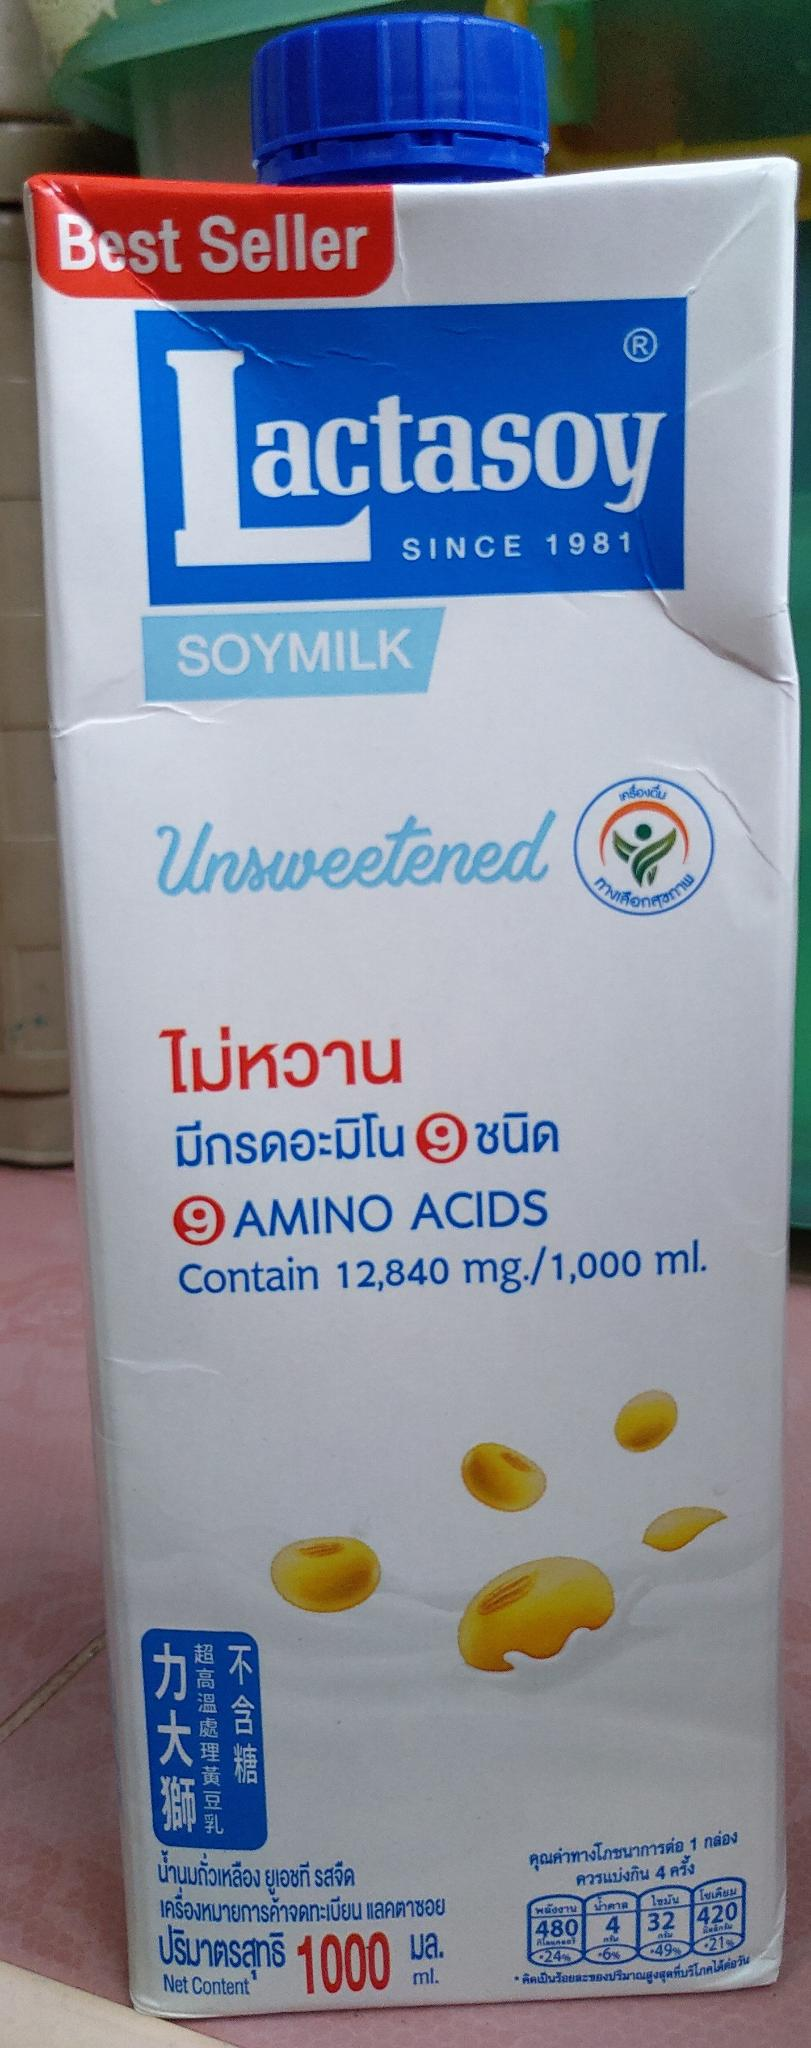cardboard: (26, 18, 803, 2038)
